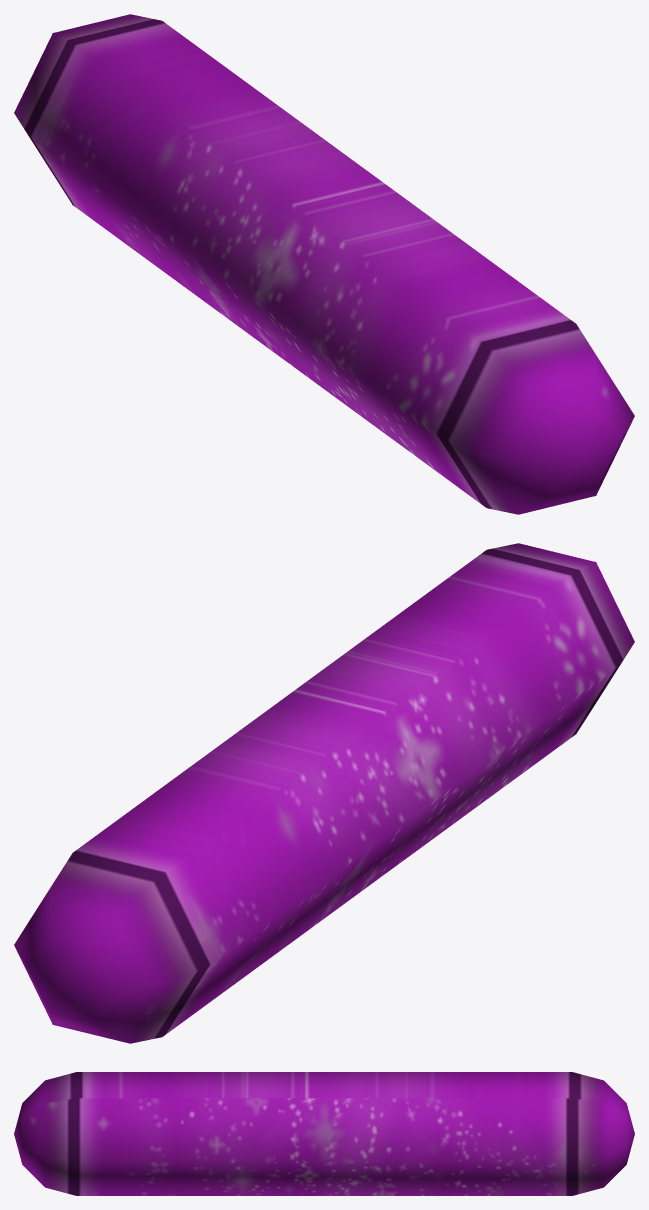
File: paddle_001.FBX
3 views of the same model, one above another, from view 1: azimuth 30°, elevation 25°; view 2: azimuth 150°, elevation 25°; view 3: azimuth 270°, elevation 25° (orthographic). The views are drawn at different scales.
Visible parts, largest first — view 1: Capsule001; view 2: Capsule001; view 3: Capsule001.
Part boxes in pixels (x1,y1,x2,y2): Capsule001: (14, 14, 634, 514); Capsule001: (14, 543, 634, 1043); Capsule001: (14, 1072, 634, 1195).
Size of the model in its own units: 11.81 by 10.23 by 59.06.
Materials: 1 (1 with a texture image).
